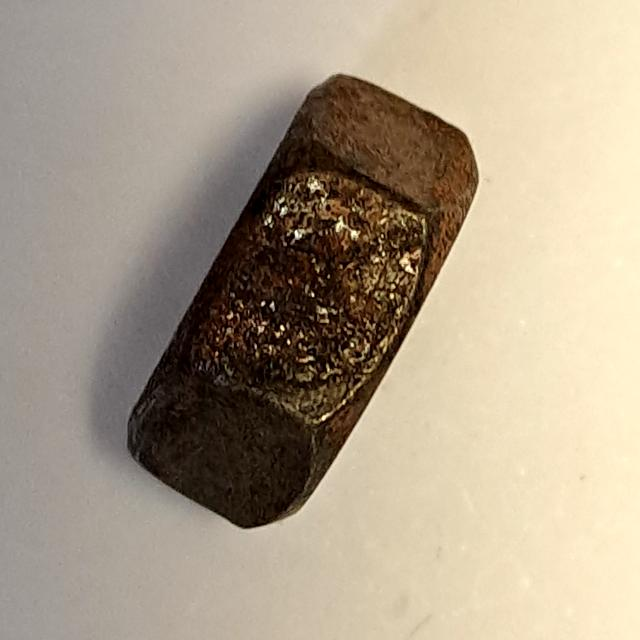Side_Rust: (117, 53, 499, 539)
